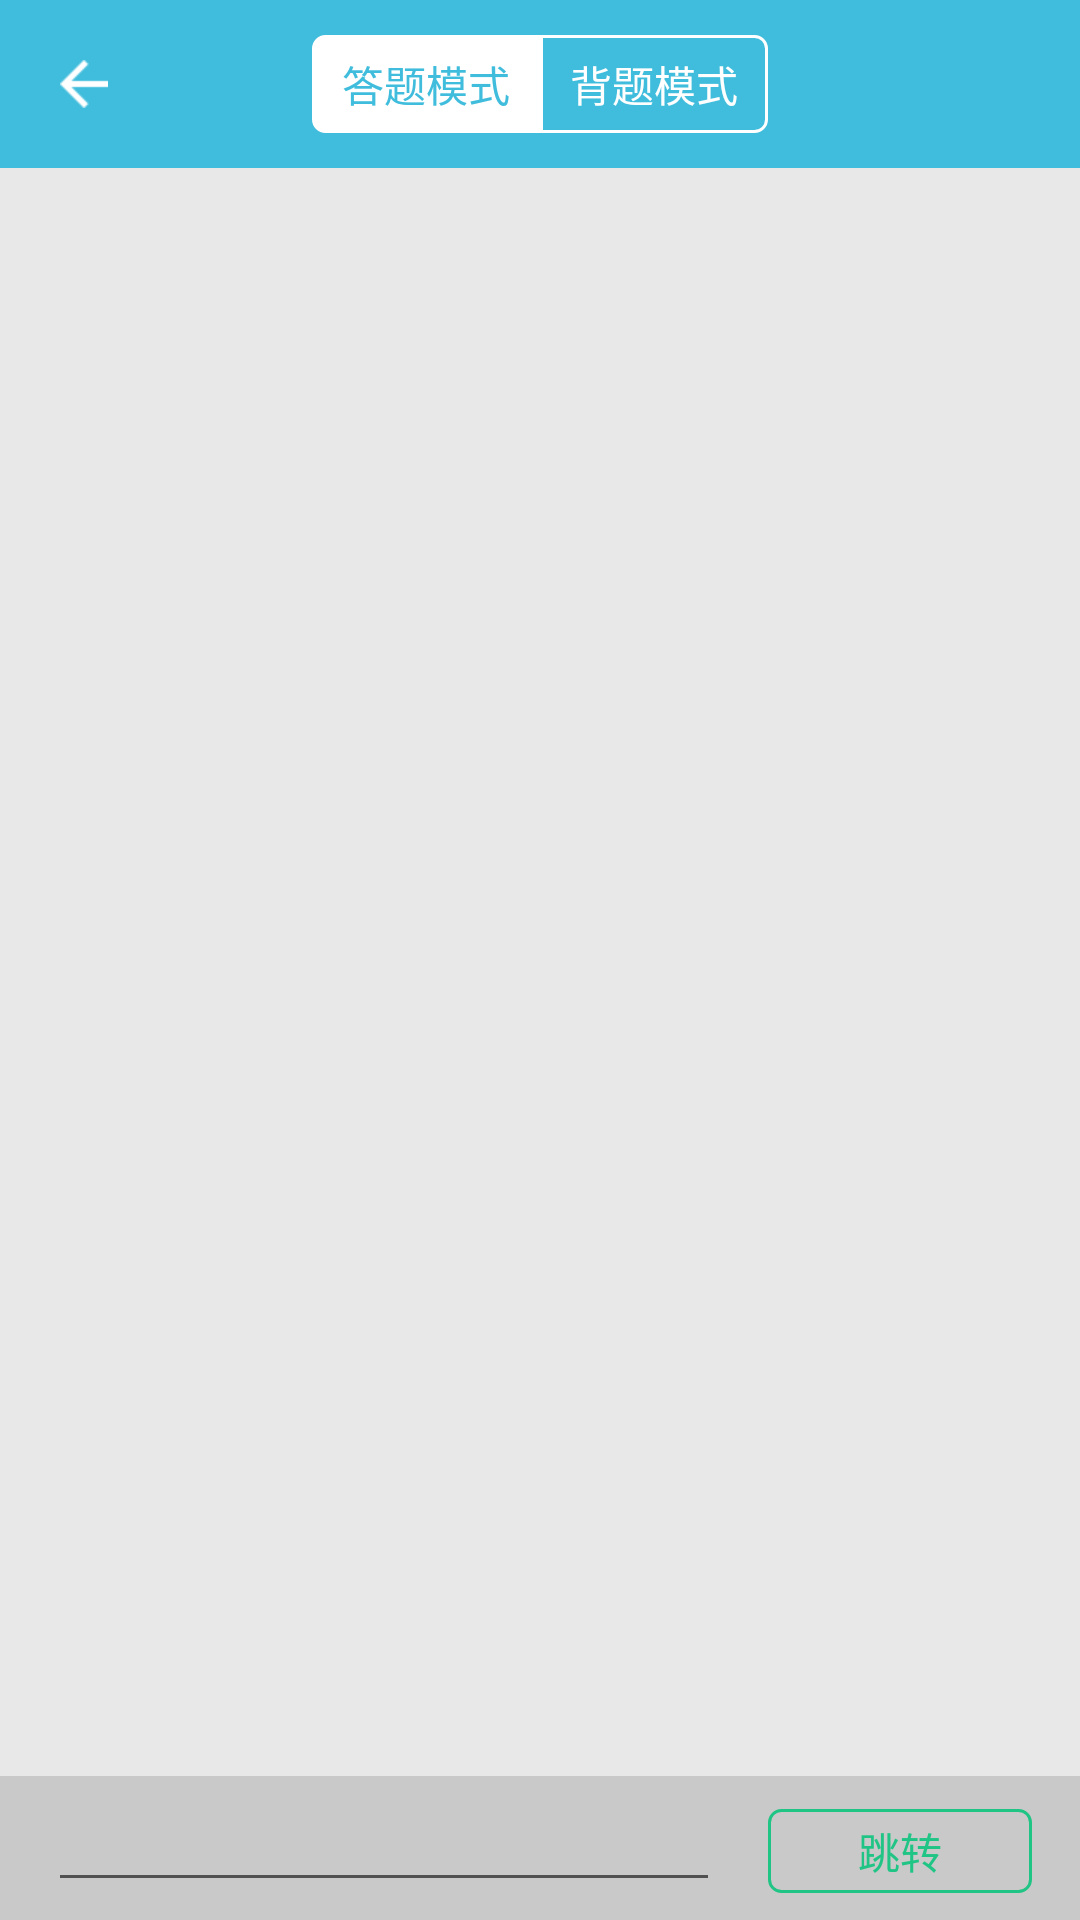

Icon click points for this 1080×1920 phone screenshot, format (x=x, y=y):
bar back: (x=84, y=84)
